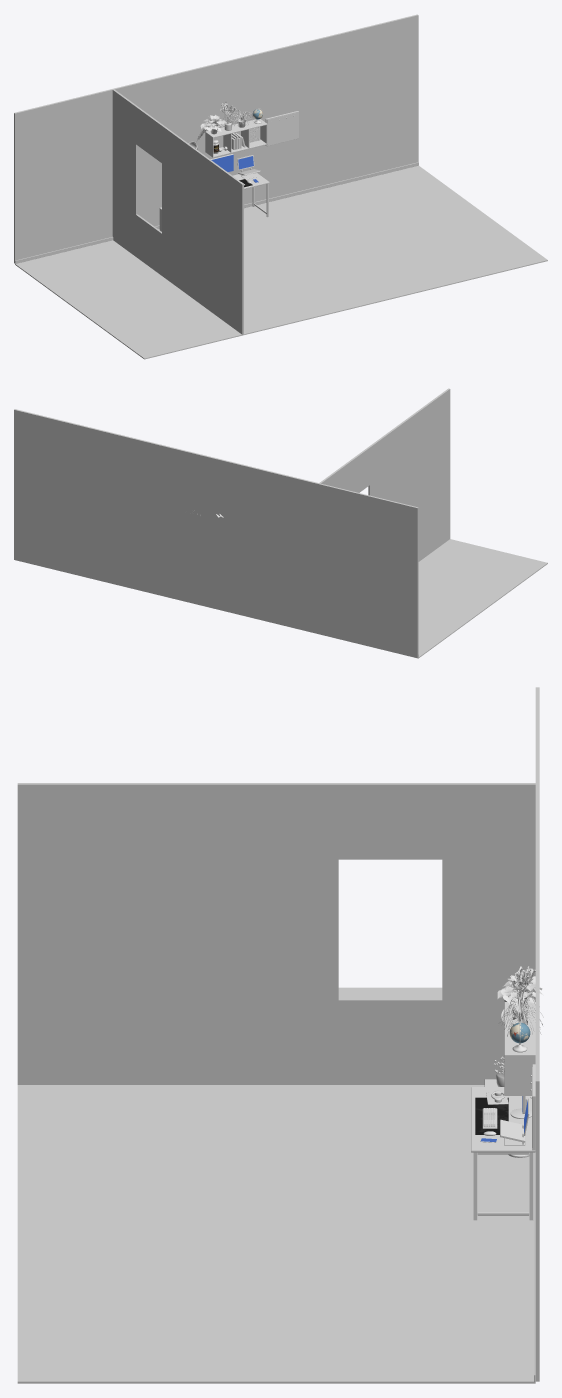
The model's file is room.glb.
3 views of the same model, one above another, from view 1: azimuth 30°, elevation 25°; view 2: azimuth 150°, elevation 25°; view 3: azimuth 270°, elevation 25° (orthographic). The views are drawn at different scales.
Visible parts, largest first — view 1: shell, props; view 2: shell; view 3: shell, props.
Boxes of the visible parts, left/top/right/bottom form: shell: left=14, top=14, right=547, bottom=359; props: left=159, top=102, right=298, bottom=231; shell: left=14, top=388, right=547, bottom=658; shell: left=17, top=687, right=539, bottom=1383; props: left=471, top=966, right=543, bottom=1220.
Size of the model in its own units: 9 by 3.22 by 5.08.
Materials: 6 (3 with a texture image).
